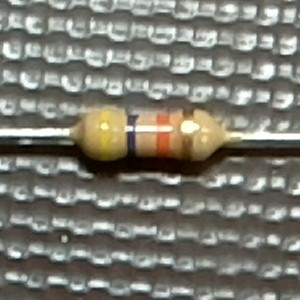gold_band: (178, 106, 197, 163)
orange_band: (155, 112, 171, 160)
violet_band: (124, 112, 141, 159)
yellow_band: (97, 103, 113, 163)
